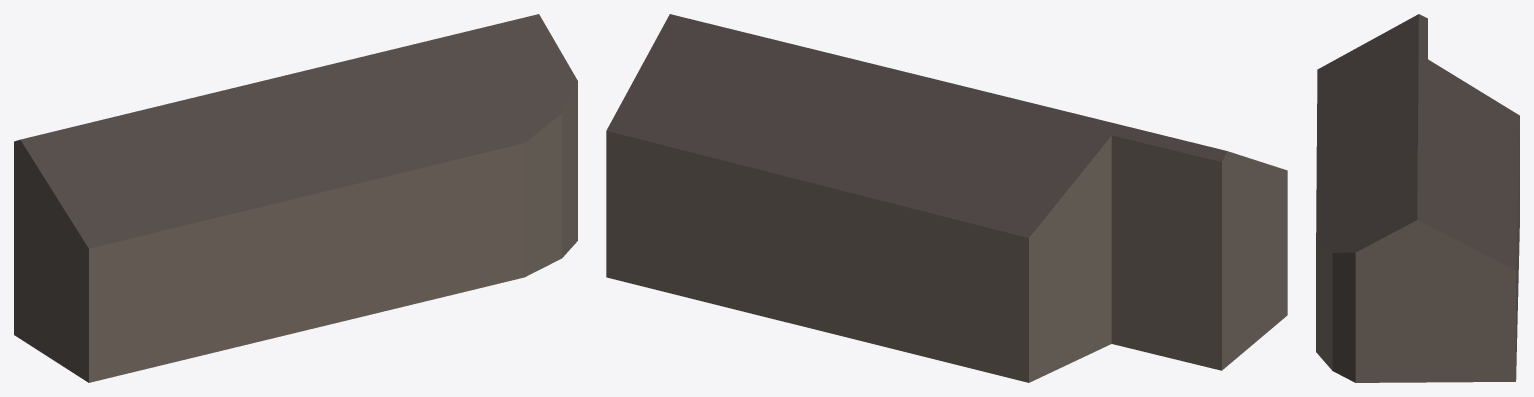
The picture shows the model from 3 angles, left to right: view 1: azimuth 30°, elevation 25°; view 2: azimuth 150°, elevation 25°; view 3: azimuth 270°, elevation 25°; orthographic projection. The views are drawn at different scales.
Parts seen in each view (by area): view 1: HP-w1512911281; view 2: HP-w1512911281; view 3: HP-w1512911281.
Boxes of the visible parts, x1=… form: HP-w1512911281: x1=14, y1=14, x2=577, y2=382; HP-w1512911281: x1=606, y1=14, x2=1287, y2=382; HP-w1512911281: x1=1316, y1=14, x2=1519, y2=382.
Size of the model in its own units: 24.29 by 8.91 by 10.12.
